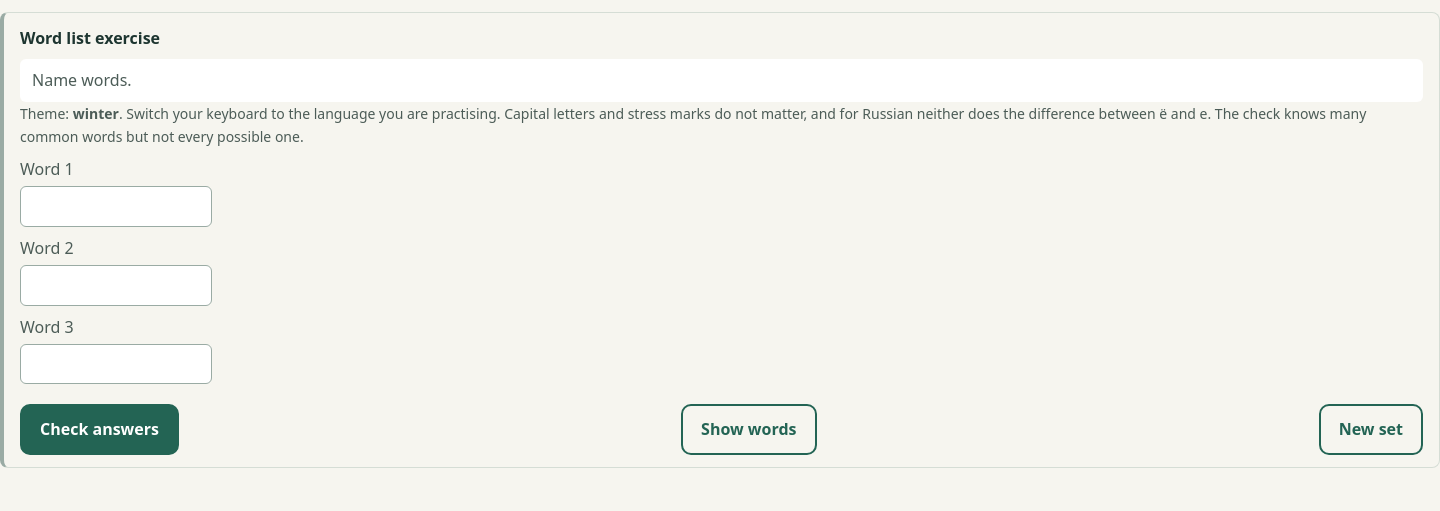
Test: word list panel › accepts listed words, flags repeats and unknown words
In the field labelled "Word 1": (116,207) [20, 186, 212, 227], type "Snow"
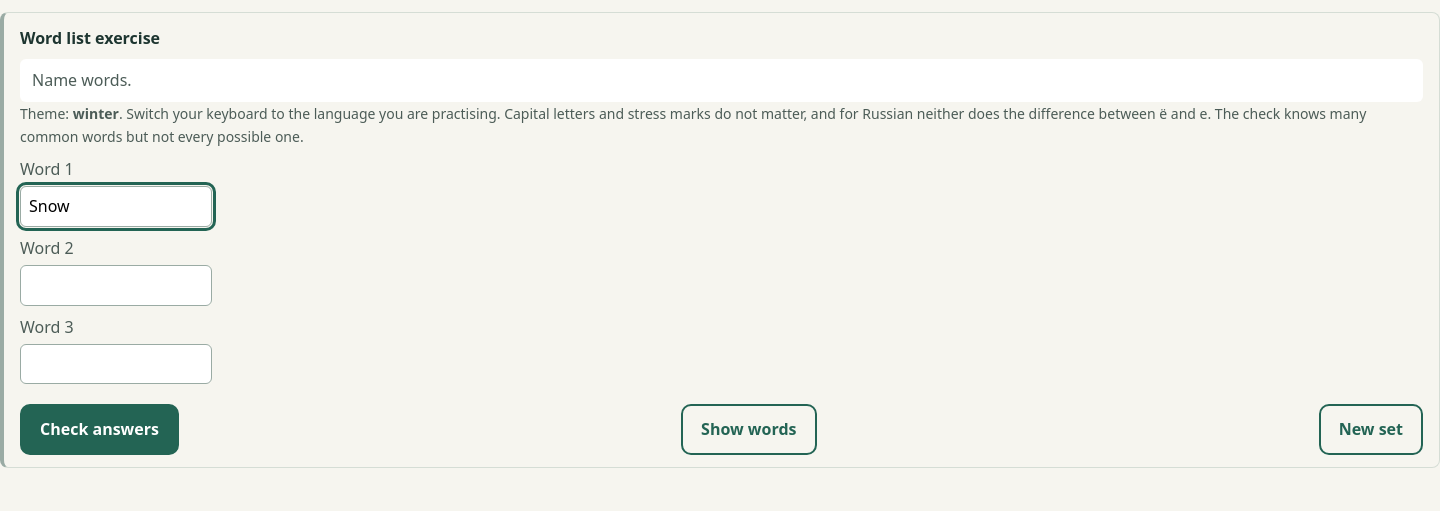
In the field labelled "Word 2": (116,285) [20, 265, 212, 306], type "snow"
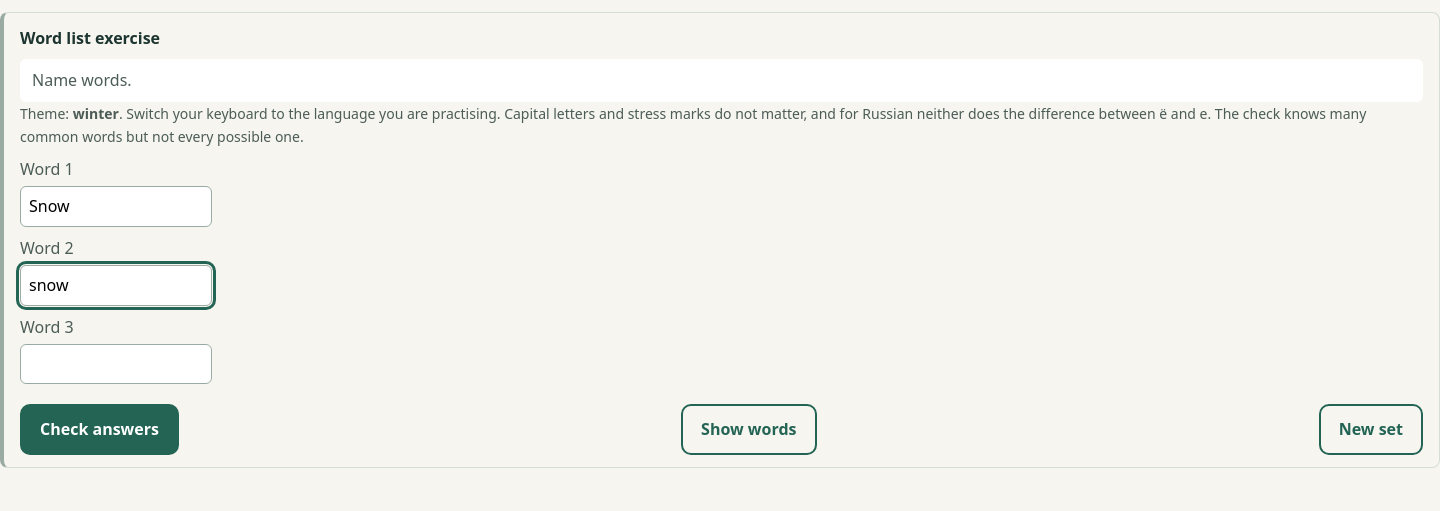
In the field labelled "Word 3": (116,364) [20, 344, 212, 384], type "zebra"
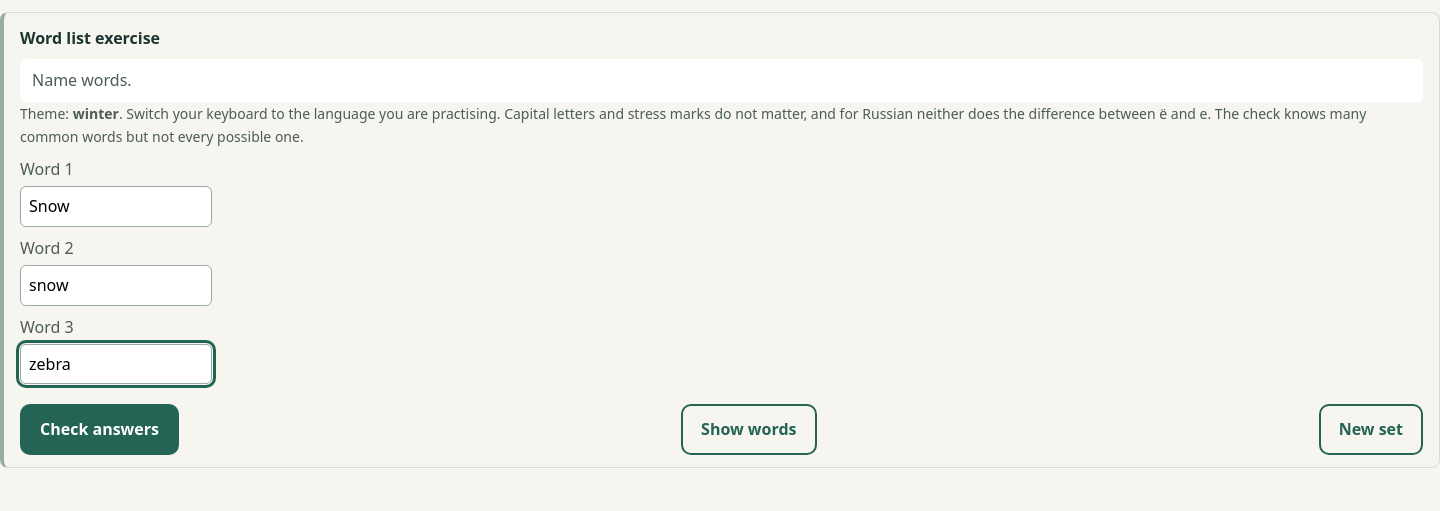
Click the button "Check answers": (100,430) [20, 404, 179, 455]
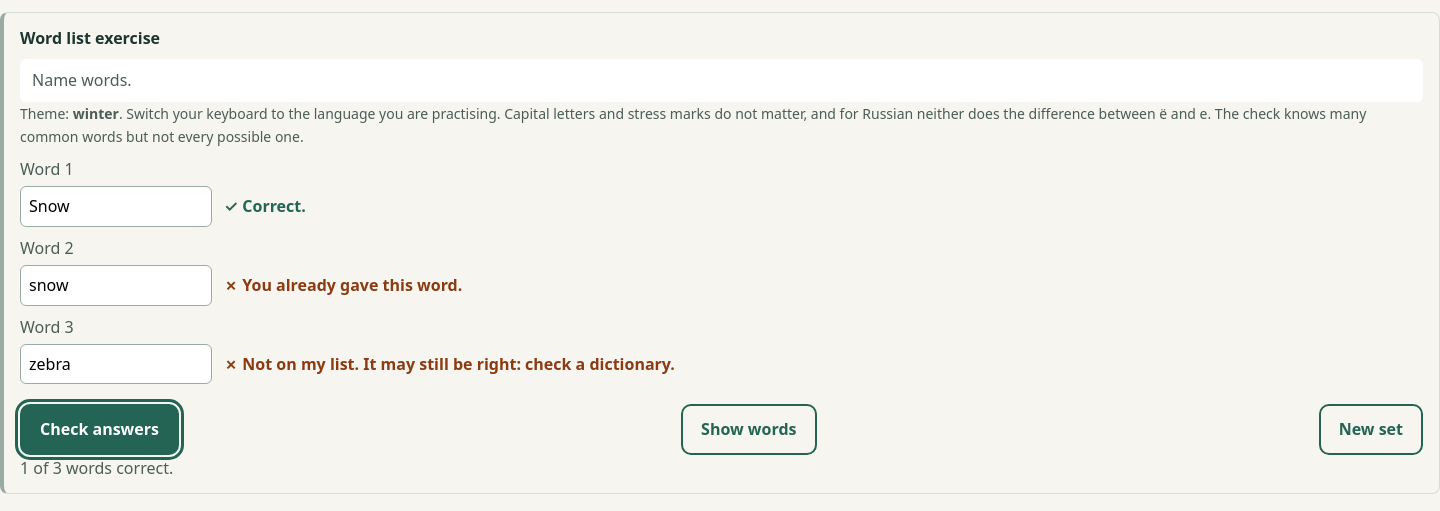
Expected: the text "Correct." is shown, [242, 195, 306, 217]
Expected: the text "You already gave this word." is shown, [242, 274, 462, 296]
Expected: the text "✗ Not on my list. It may still be right: check a dictionary." is shown, [224, 351, 675, 377]
